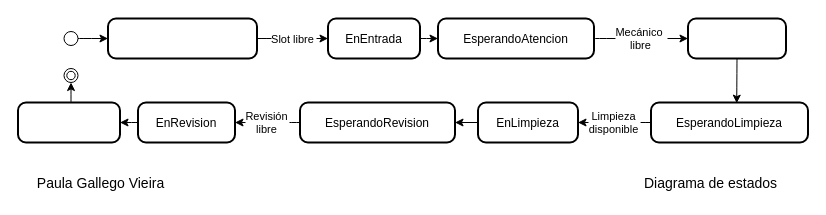
Some shapes in this 826 by 215 pixel diagram are drawn without their labels. Each missing label, with the box of its shape:
Completado: (16, 101, 120, 143)
EnAtencion: (686, 17, 786, 59)
EsperandoEntrada: (106, 17, 258, 59)
